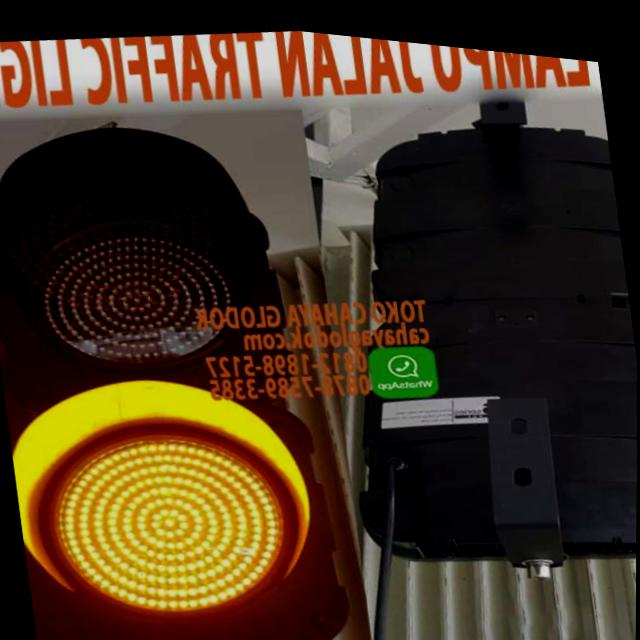Kuning: (39, 403, 302, 637)
